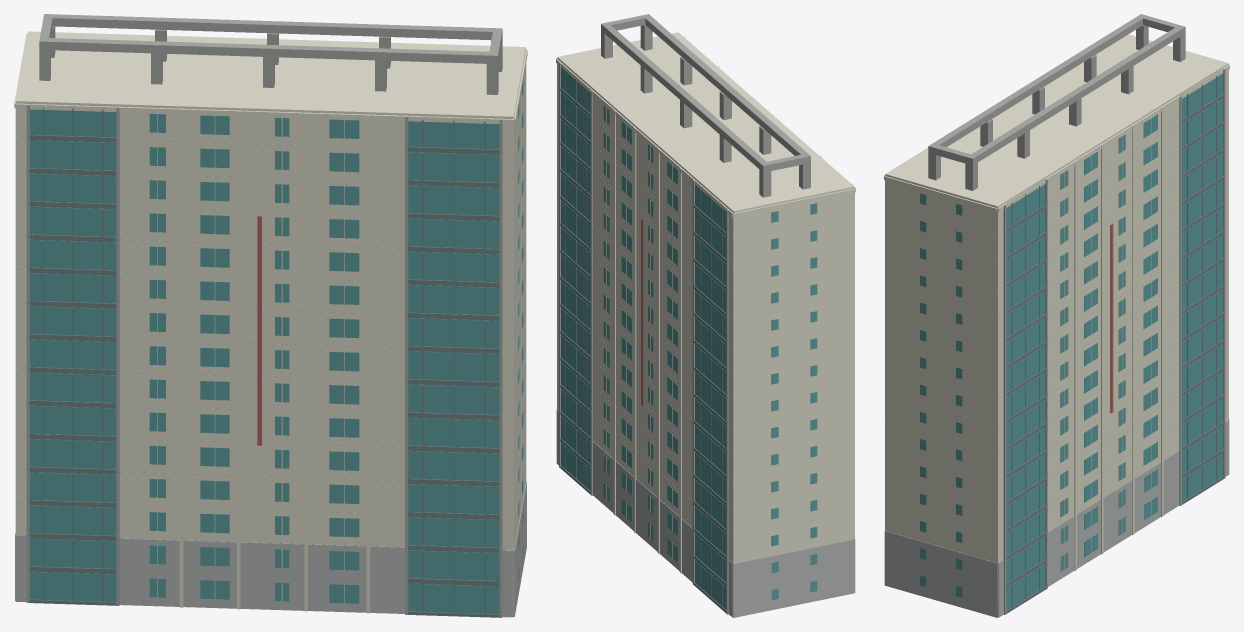
Rendered from bespoke-raemian-blesstige-209.glb.
3 views of the same model, side by side, from view 1: azimuth 30°, elevation 25°; view 2: azimuth 150°, elevation 25°; view 3: azimuth 270°, elevation 25° (orthographic). The views are drawn at different scales.
Parts seen in each view (by area): view 1: Blesstige209_editable_Blesstige209_broad_white_facade_frames, Blesstige209_editable_Blesstige209_green_teal_vertical_glazi, Blesstige209_editable_Blesstige209_thick_grey_concrete_crown, Blesstige209_editable_Blesstige209_light_grey_solid_wall, Blesstige209_editable_Blesstige209_teal_bank_mullions, Blesstige209_editable_Blesstige209_restrained_red_vertical_a; view 2: Blesstige209_editable_Blesstige209_broad_white_facade_frames, Blesstige209_editable_Blesstige209_green_teal_vertical_glazi, Blesstige209_editable_Blesstige209_light_grey_solid_wall, Blesstige209_editable_Blesstige209_thick_grey_concrete_crown, Blesstige209_editable_Blesstige209_teal_bank_mullions, Blesstige209_editable_Blesstige209_restrained_red_vertical_a; view 3: Blesstige209_editable_Blesstige209_broad_white_facade_frames, Blesstige209_editable_Blesstige209_green_teal_vertical_glazi, Blesstige209_editable_Blesstige209_light_grey_solid_wall, Blesstige209_editable_Blesstige209_thick_grey_concrete_crown, Blesstige209_editable_Blesstige209_teal_bank_mullions, Blesstige209_editable_Blesstige209_restrained_red_vertical_a.
Boxes of the visible parts, left/top/right/bottom form: Blesstige209_editable_Blesstige209_broad_white_facade_frames: left=14, top=31, right=527, bottom=616; Blesstige209_editable_Blesstige209_green_teal_vertical_glazi: left=30, top=80, right=523, bottom=613; Blesstige209_editable_Blesstige209_thick_grey_concrete_crown: left=26, top=14, right=502, bottom=617; Blesstige209_editable_Blesstige209_light_grey_solid_wall: left=15, top=83, right=526, bottom=617; Blesstige209_editable_Blesstige209_teal_bank_mullions: left=29, top=104, right=499, bottom=617; Blesstige209_editable_Blesstige209_restrained_red_vertical_a: left=257, top=216, right=261, bottom=445; Blesstige209_editable_Blesstige209_broad_white_facade_frames: left=556, top=32, right=855, bottom=612; Blesstige209_editable_Blesstige209_green_teal_vertical_glazi: left=561, top=68, right=817, bottom=609; Blesstige209_editable_Blesstige209_light_grey_solid_wall: left=556, top=86, right=855, bottom=617; Blesstige209_editable_Blesstige209_thick_grey_concrete_crown: left=559, top=14, right=852, bottom=614; Blesstige209_editable_Blesstige209_teal_bank_mullions: left=560, top=64, right=728, bottom=612; Blesstige209_editable_Blesstige209_restrained_red_vertical_a: left=641, top=219, right=643, bottom=406; Blesstige209_editable_Blesstige209_broad_white_facade_frames: left=884, top=34, right=1229, bottom=601; Blesstige209_editable_Blesstige209_green_teal_vertical_glazi: left=920, top=73, right=1223, bottom=610; Blesstige209_editable_Blesstige209_light_grey_solid_wall: left=884, top=92, right=1229, bottom=617; Blesstige209_editable_Blesstige209_thick_grey_concrete_crown: left=928, top=14, right=1225, bottom=614; Blesstige209_editable_Blesstige209_teal_bank_mullions: left=1003, top=70, right=1223, bottom=613; Blesstige209_editable_Blesstige209_restrained_red_vertical_a: left=1110, top=223, right=1113, bottom=413.
Bounding box in the file's own units: 38.89 × 45.5 × 32.16.
